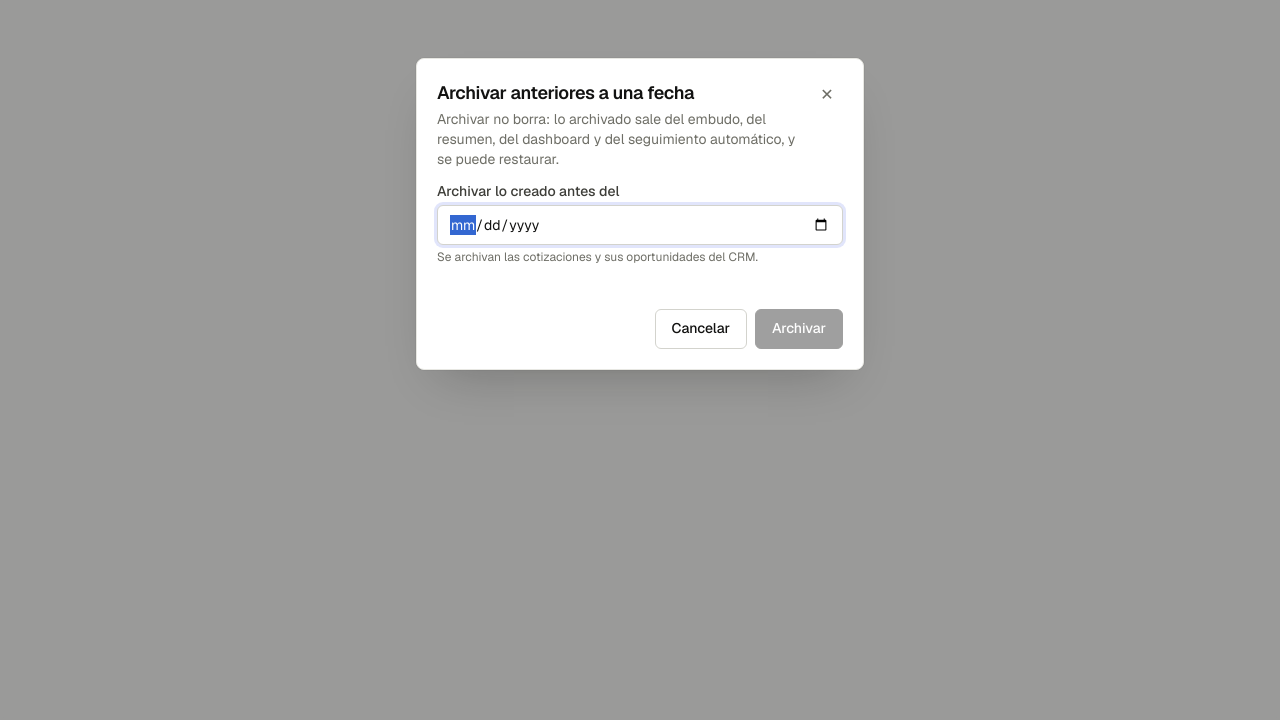
Test: ArchivarAnterioresDialogo › muestra el error de la vista previa
Step 1. Type "2026-01-01" into the date field labelled "Archivar lo creado antes del" → (640, 225), box [437,205,843,245]
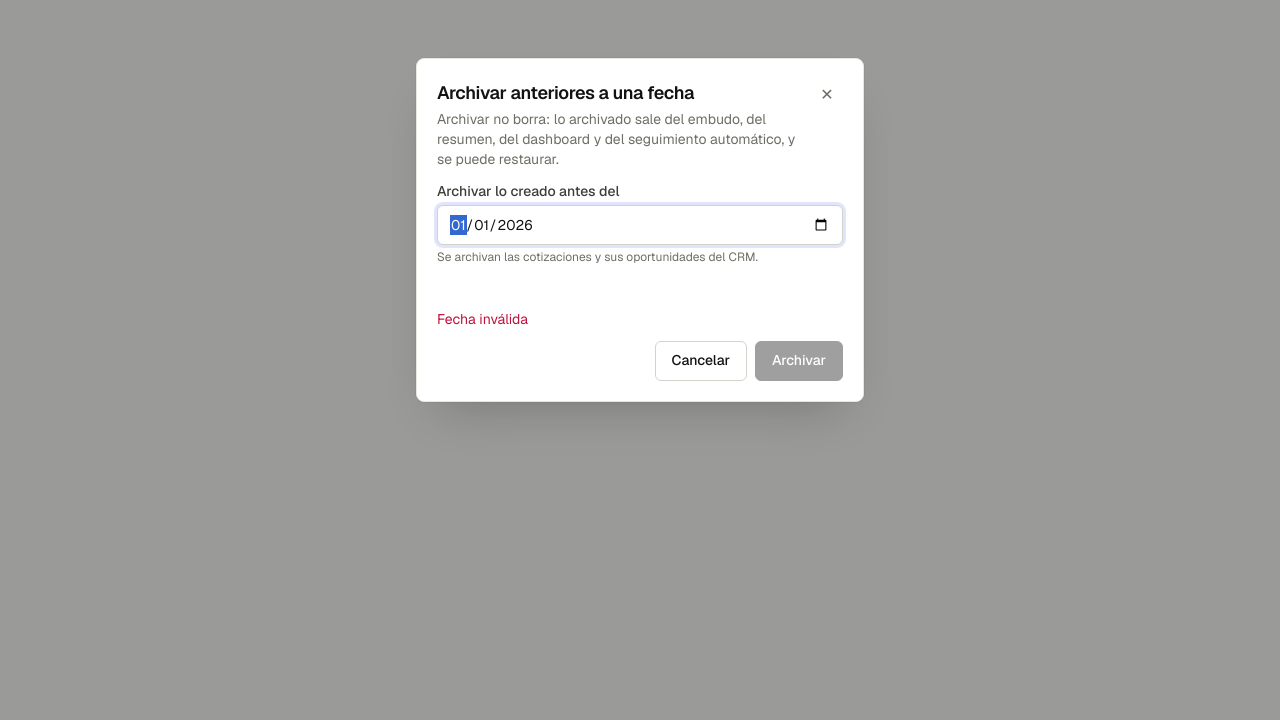
Check: the message reads "Fecha inválida", box [437,310,528,328]
